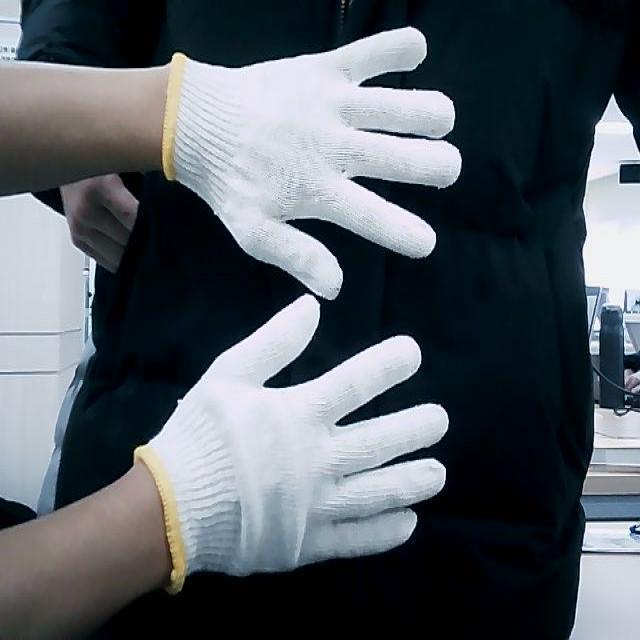gloves: (136, 293, 450, 591), (162, 24, 463, 281)
